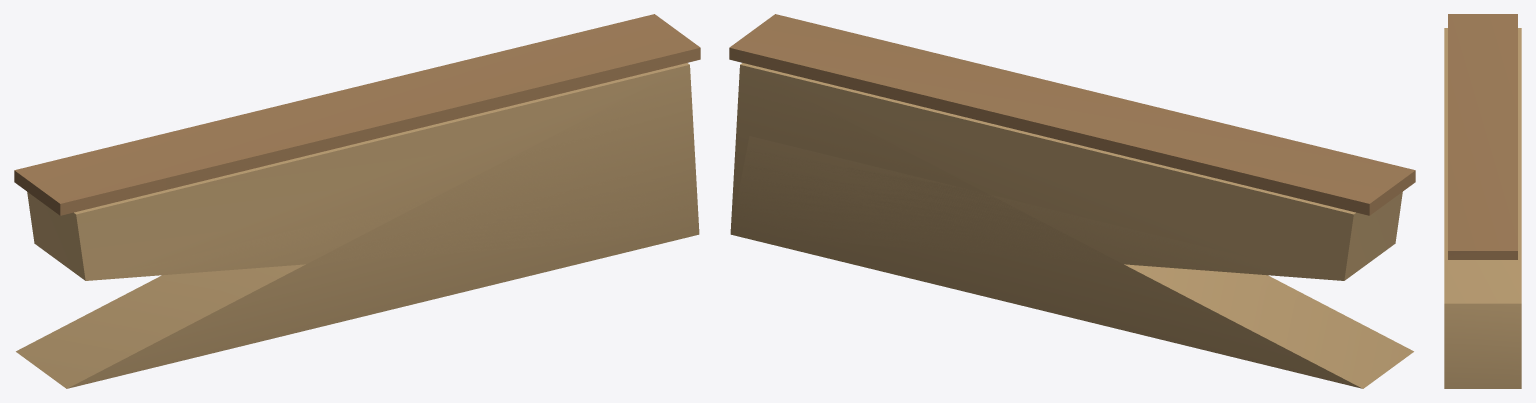
The model's file is moche_wall_lod0.glb.
3 renders of one model, left to right at view 1: azimuth 30°, elevation 25°; view 2: azimuth 150°, elevation 25°; view 3: azimuth 270°, elevation 25°, orthographic. The views are drawn at different scales.
Visible parts, largest first — view 1: GEO-Arch_moche_wall_LOD0; view 2: GEO-Arch_moche_wall_LOD0; view 3: GEO-Arch_moche_wall_LOD0.
Boxes of the visible parts, bbox=[...] form: GEO-Arch_moche_wall_LOD0: bbox=[14, 14, 700, 388]; GEO-Arch_moche_wall_LOD0: bbox=[729, 14, 1415, 388]; GEO-Arch_moche_wall_LOD0: bbox=[1444, 14, 1521, 388].
Bounding box in the file's own units: 10.12 × 2.78 × 1.4.
